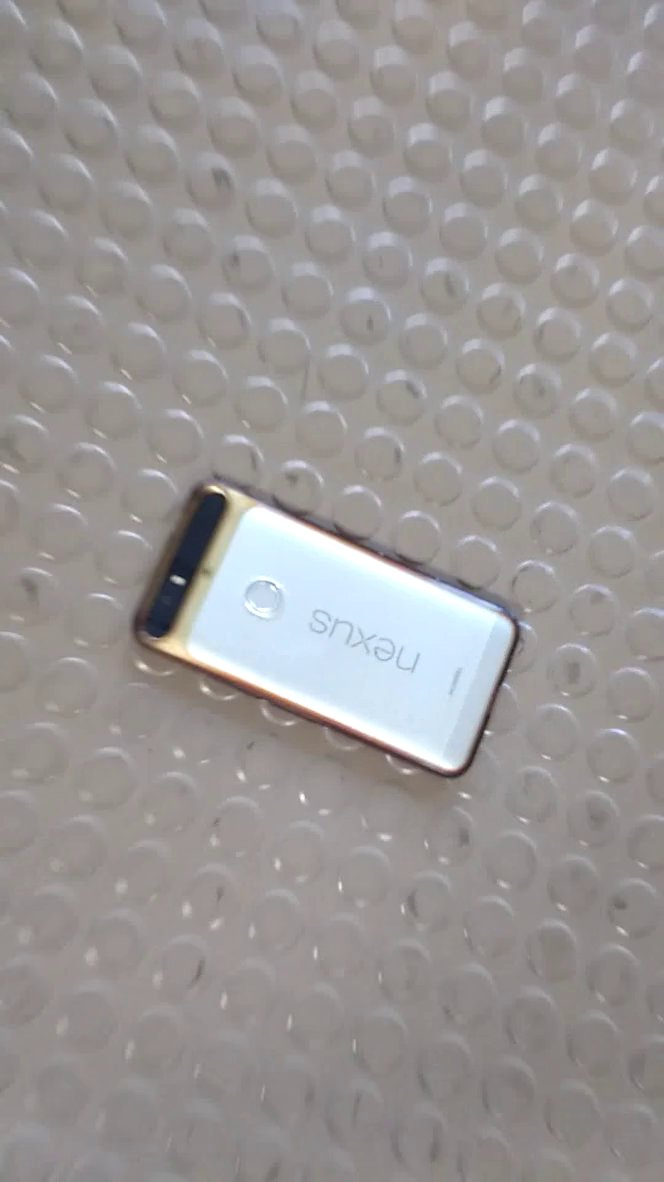phone: (113, 463, 535, 801)
